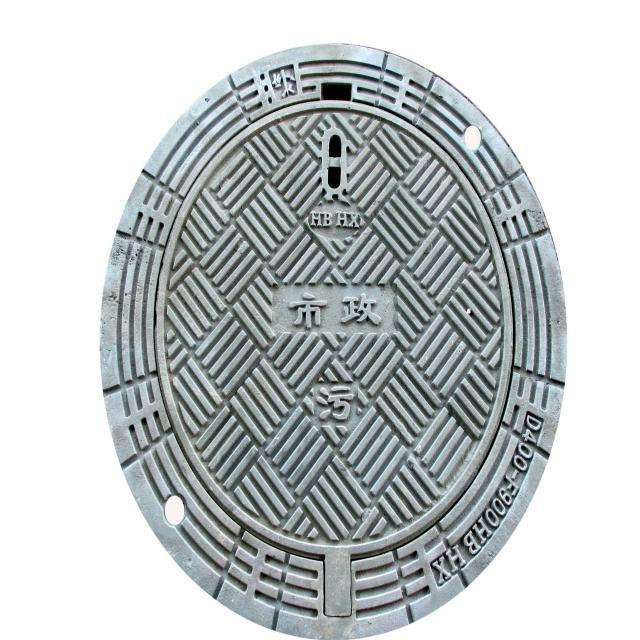manhole: (101, 45, 565, 639)
